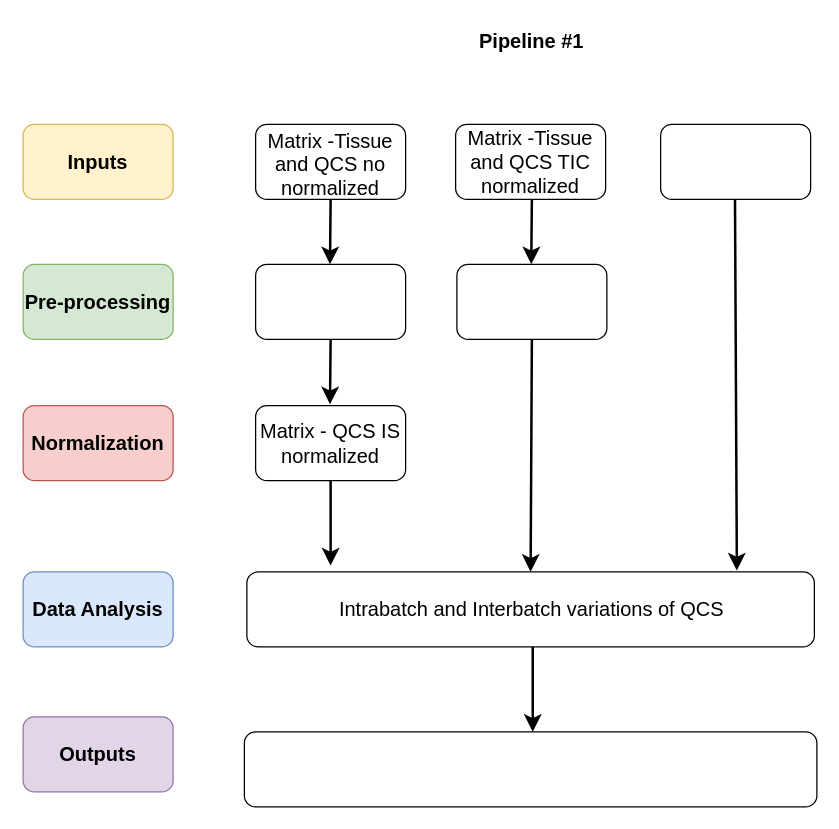
Image size: 839x829. Some labels were removed from this diagram. Each missing label, with the box of its shape:
1) Intensity change plot 2) Violin plot 3) Calculation result in table: (243, 731, 817, 807)
Batch Information: (659, 123, 811, 199)
Matrix - QCS no normalized: (254, 263, 406, 339)
Matrix - QCS TIC normalized: (456, 263, 607, 339)
